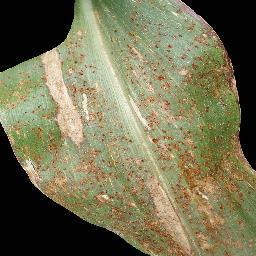Corn_Common_Rust: (120, 0, 195, 256), (0, 29, 71, 211), (195, 11, 243, 256), (72, 0, 120, 236), (243, 148, 256, 256)
